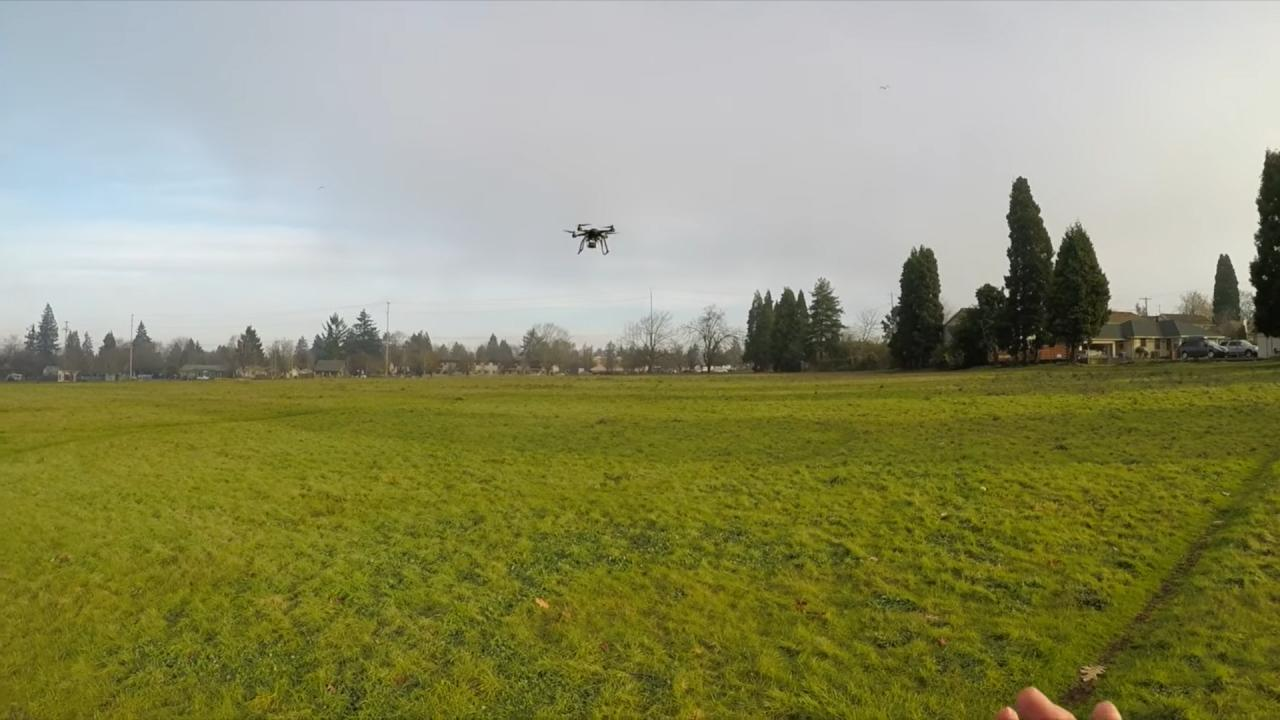Drone: (557, 214, 628, 260)
